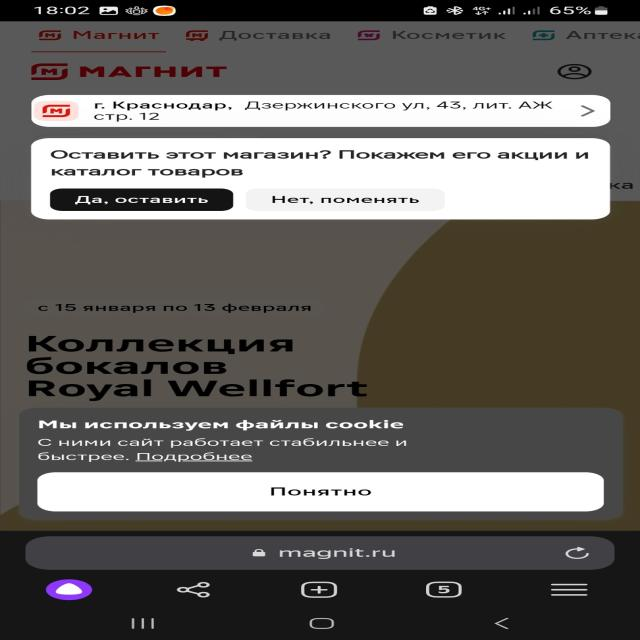button: (39, 472, 608, 513), (246, 186, 441, 213), (50, 188, 235, 213)
site: (20, 410, 623, 517), (33, 138, 612, 220)
